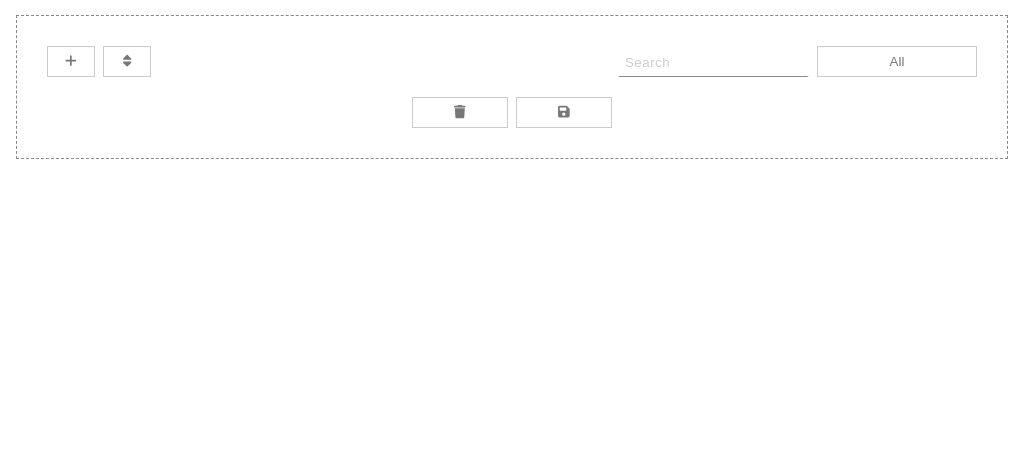
Test: Delete 1 of 5 input elements
The width and height of the screenshot is (1025, 466).
Click the button named "add" at [71, 62], box [47,46,95,77]
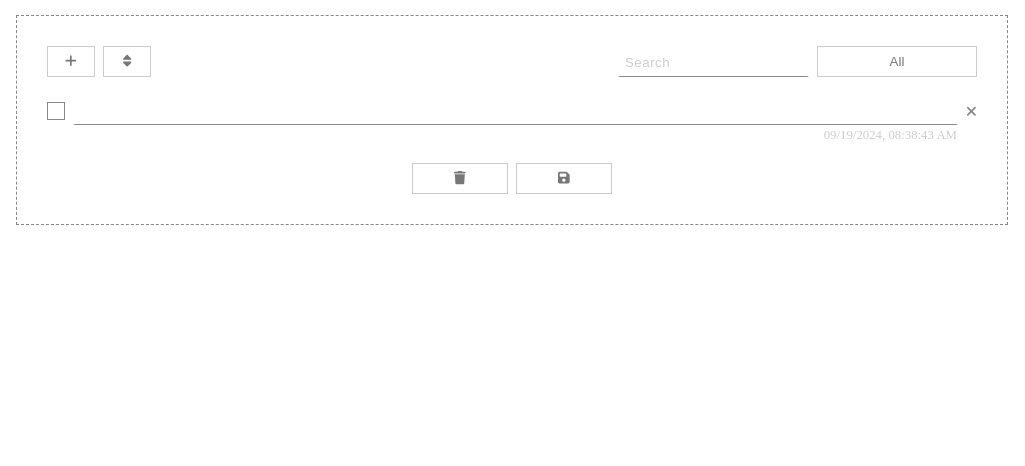
Click the button named "add" at [71, 62], box [47,46,95,77]
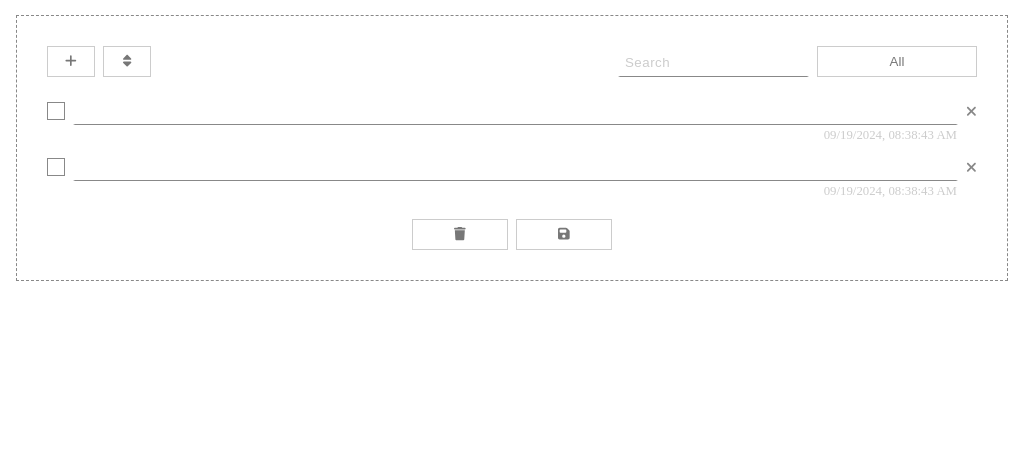
Click the button named "add" at [71, 62], box [47,46,95,77]
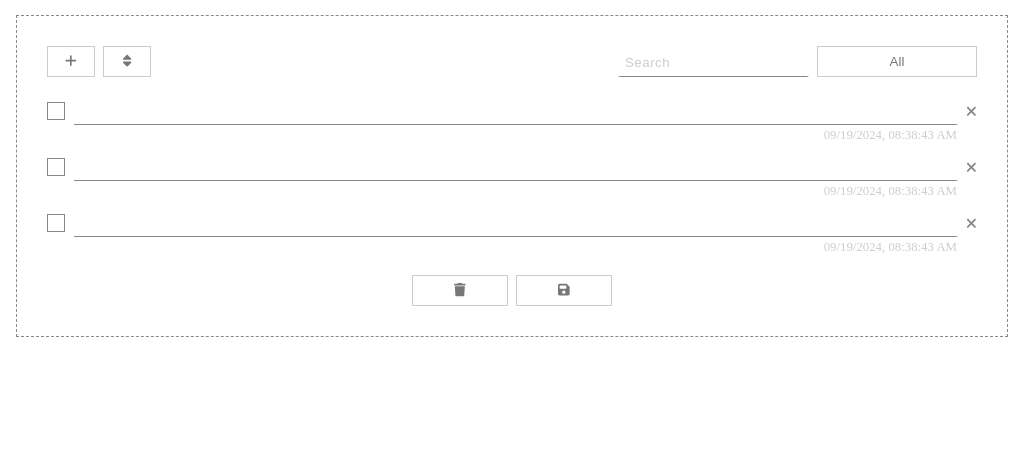
Click the button named "add" at [71, 62], box [47,46,95,77]
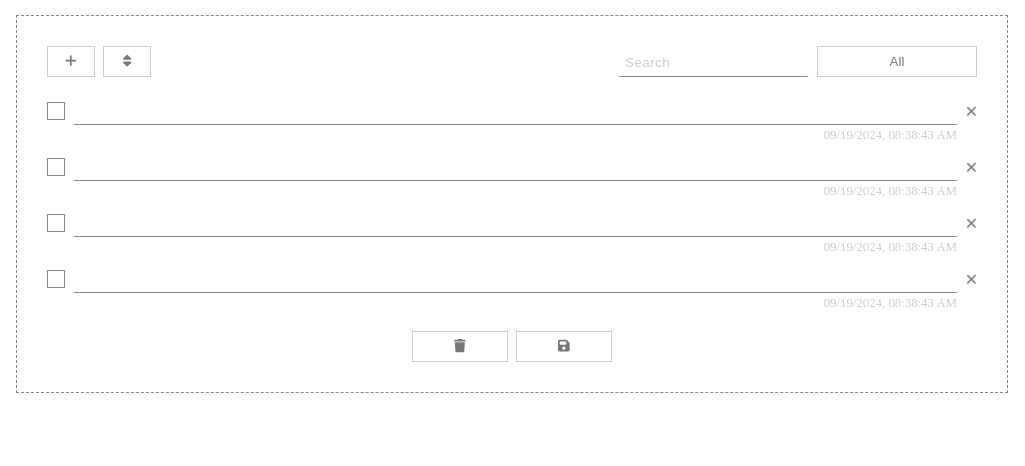
Click the button named "add" at [71, 62], box [47,46,95,77]
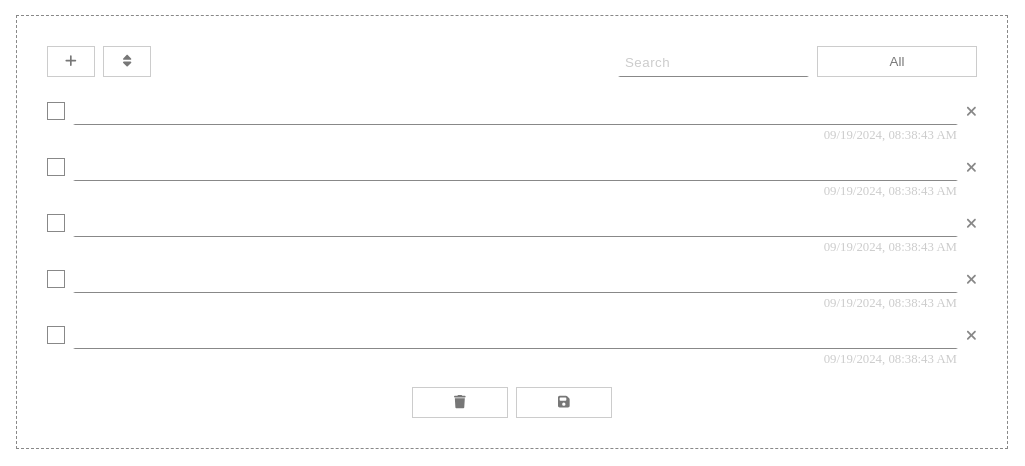
Click the 1st picture with test id "delete-icon" at [972, 111], box [966,104,977,118]
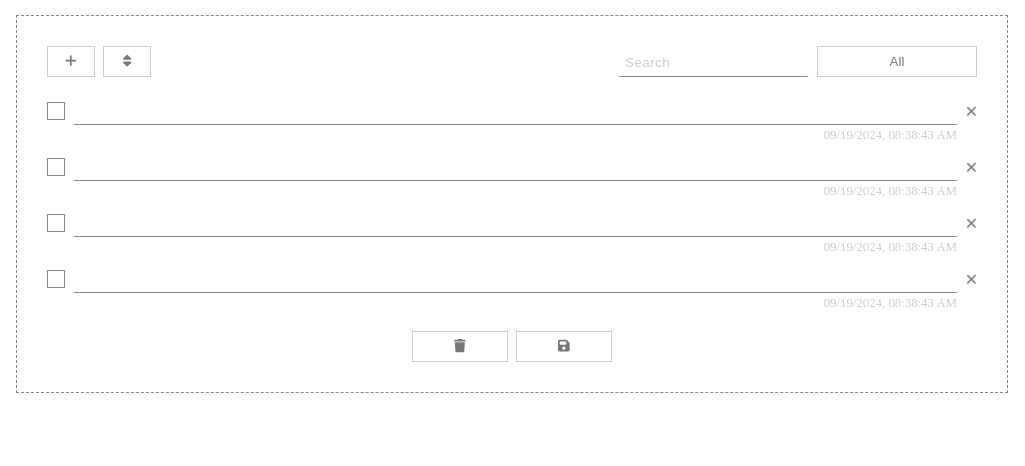
expect the number of pictures with test id "delete-icon" is 4: met, box [966,104,977,118]; [966,160,977,174]; [966,216,977,230]; [966,272,977,286]
